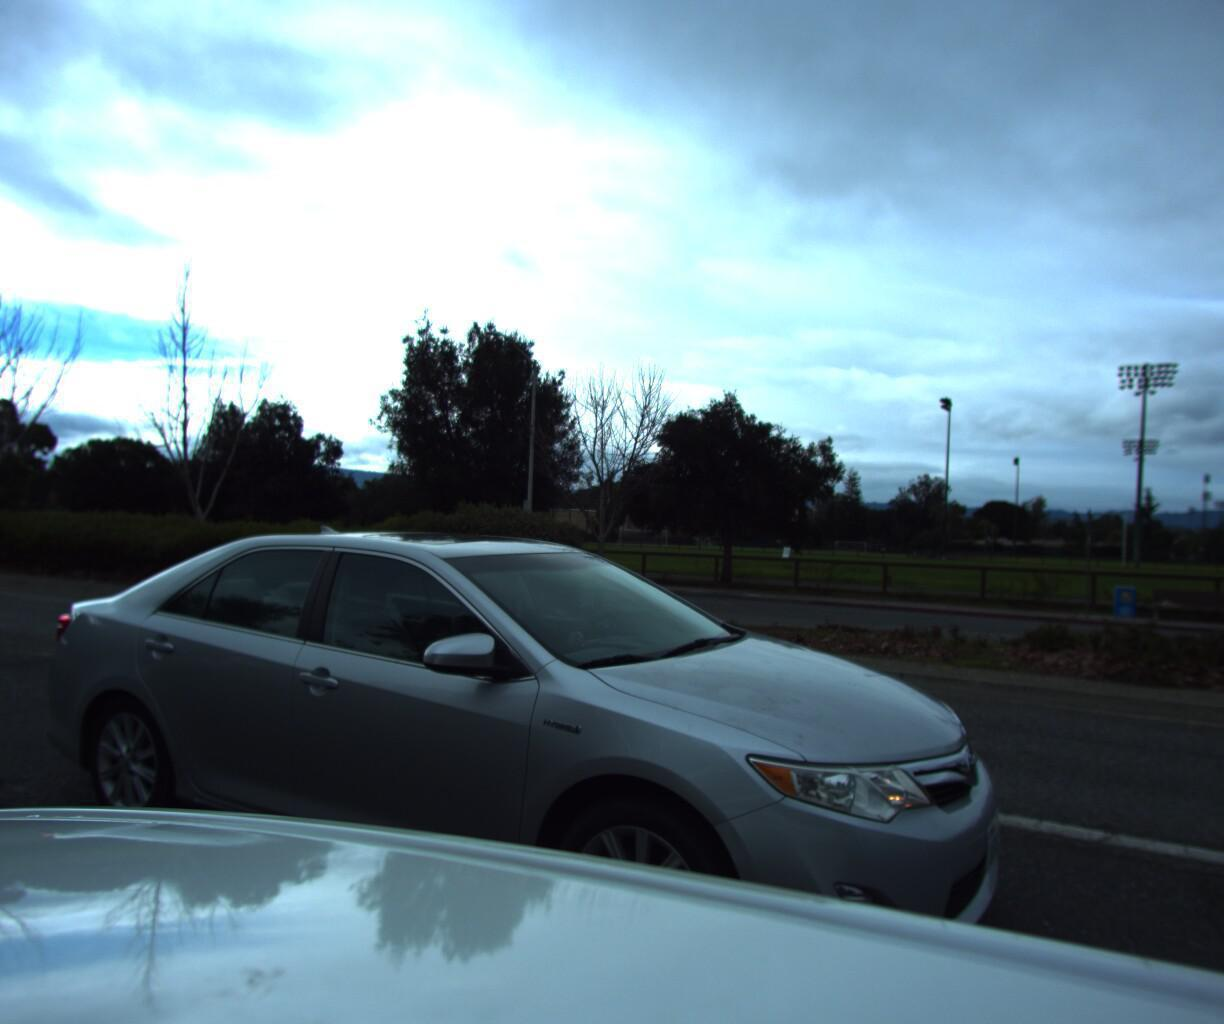car: (0, 515, 1028, 1024)
